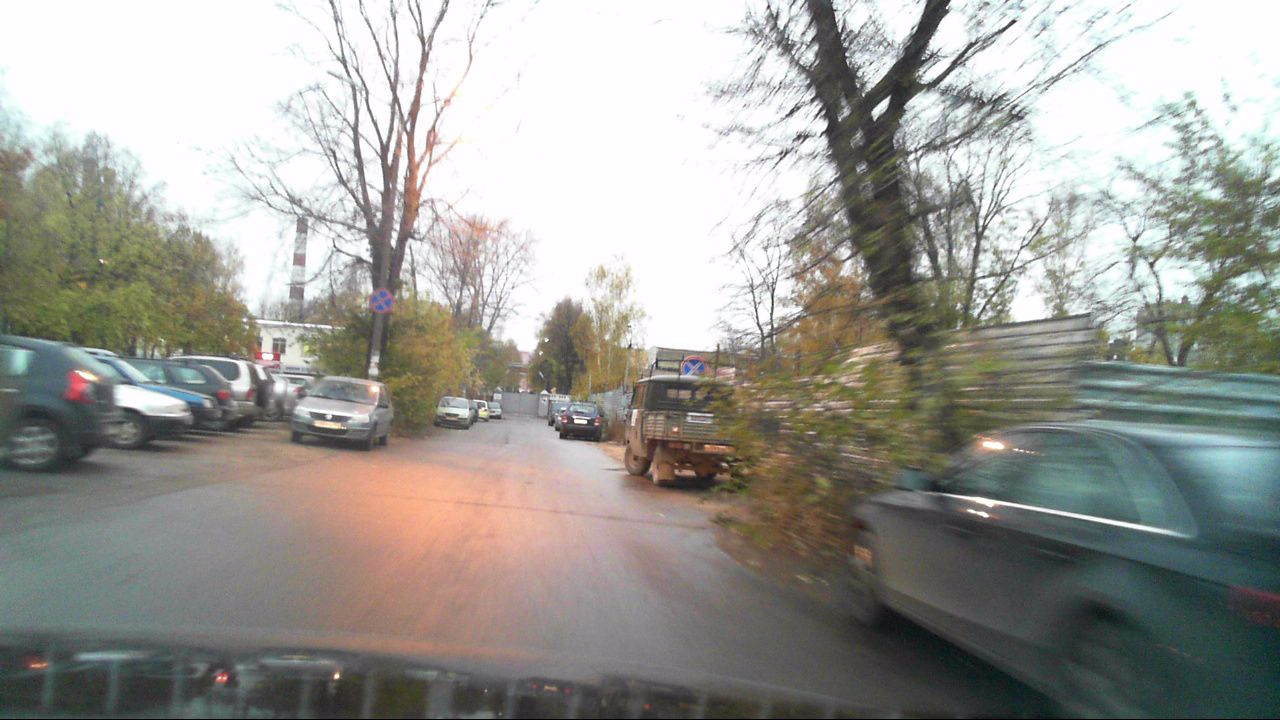No Parking: (679, 354, 707, 380)
